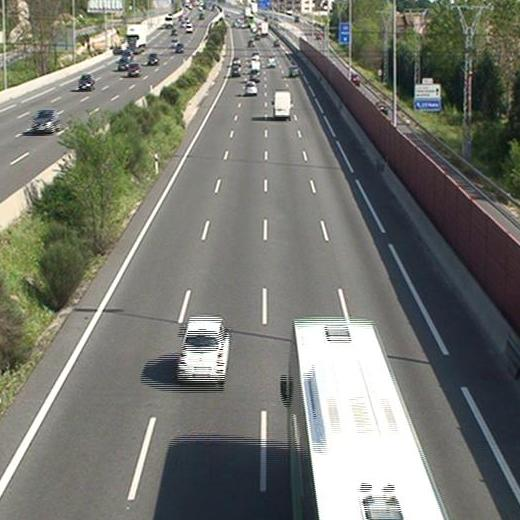bus: (289, 318, 442, 520)
car: (179, 319, 228, 382), (244, 83, 257, 95), (288, 66, 299, 77), (250, 71, 260, 81), (232, 66, 241, 77)
van: (274, 92, 289, 118)
